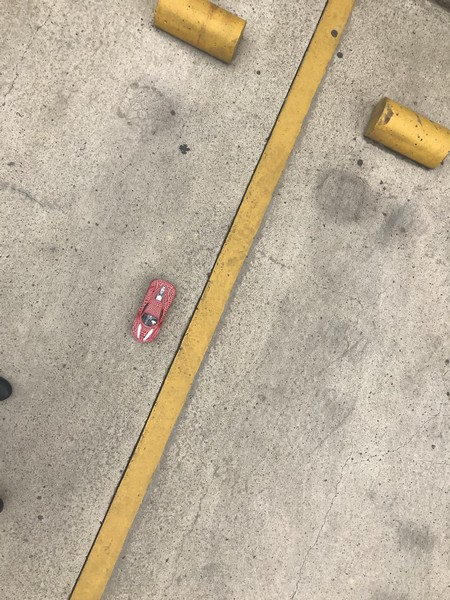RC: (129, 279, 177, 344)
